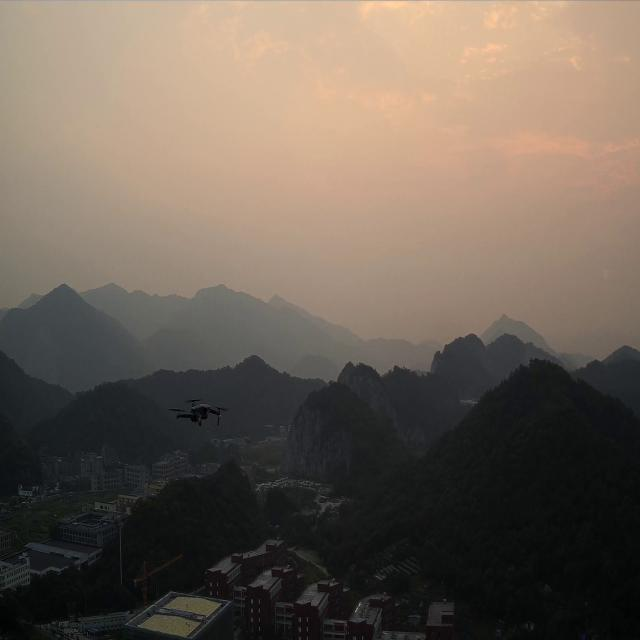UAV: (168, 399, 226, 426)
